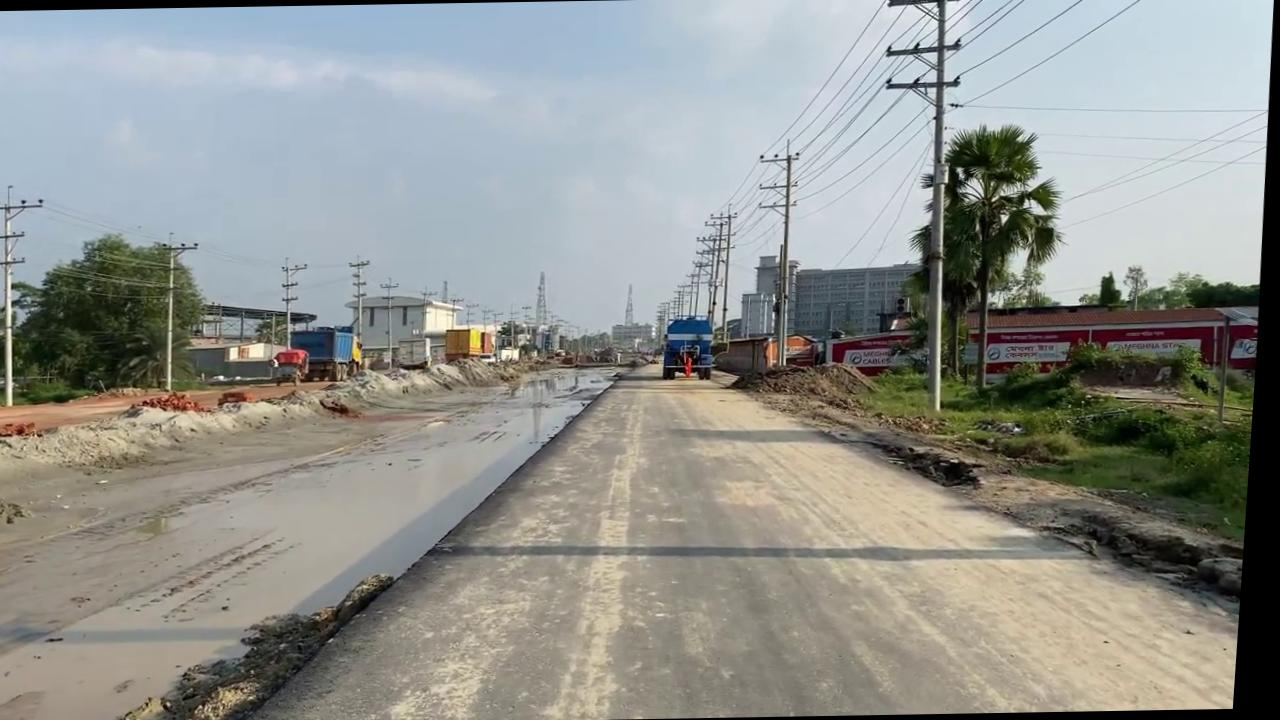Garbage-bin: (666, 314, 721, 380)
Pole: (864, 0, 973, 412), (750, 137, 807, 368)
Rickshaw: (239, 348, 1262, 720)
Sidewalk: (0, 358, 634, 720)
Stuck-water: (687, 354, 699, 376)
Traffic-sign: (900, 120, 1079, 394)
Tree: (287, 323, 371, 382), (447, 326, 501, 362), (273, 348, 314, 386), (399, 336, 438, 369)
